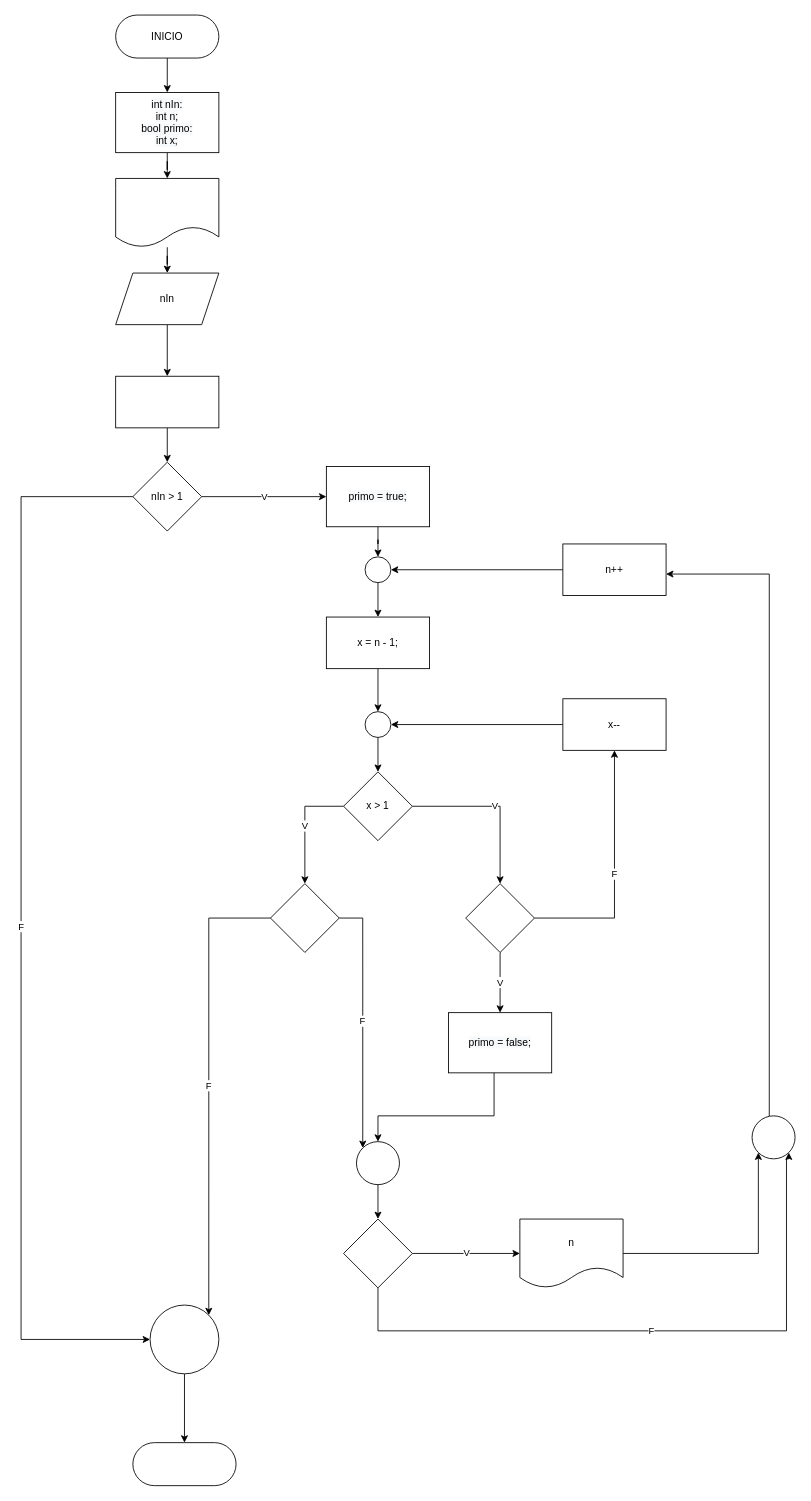
Some shapes in this 811 by 1501 pixel diagram are drawn without their labels. The shapes that lost their labels are listed below. From the top down, each one's centre as x and y in pixels, then its label:
At (x=167, y=212): "Ingrese el numero".
At (x=167, y=401): "n = 2;".
At (x=304, y=917): "nIn < n".
At (x=499, y=917): "nIn % x == 0;".
At (x=377, y=1253): "primo".
At (x=184, y=1464): "FIN".
